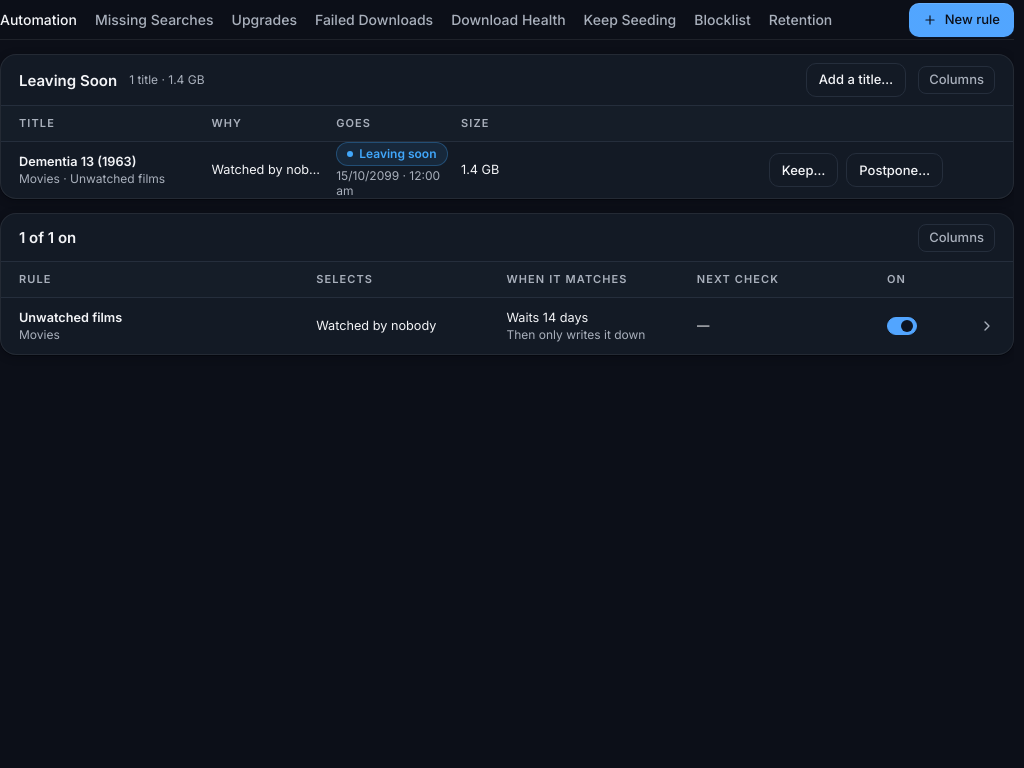
Test case: Leaving soon: Keep › Every rule posts no rule and the page says it is kept from every rule
The width and height of the screenshot is (1024, 768).
What coordinates should you click on to do the following:
click the button with aria-label "Keep Dementia 13"
I would click on:
 (804, 170)
Its box is [769,153,838,187].
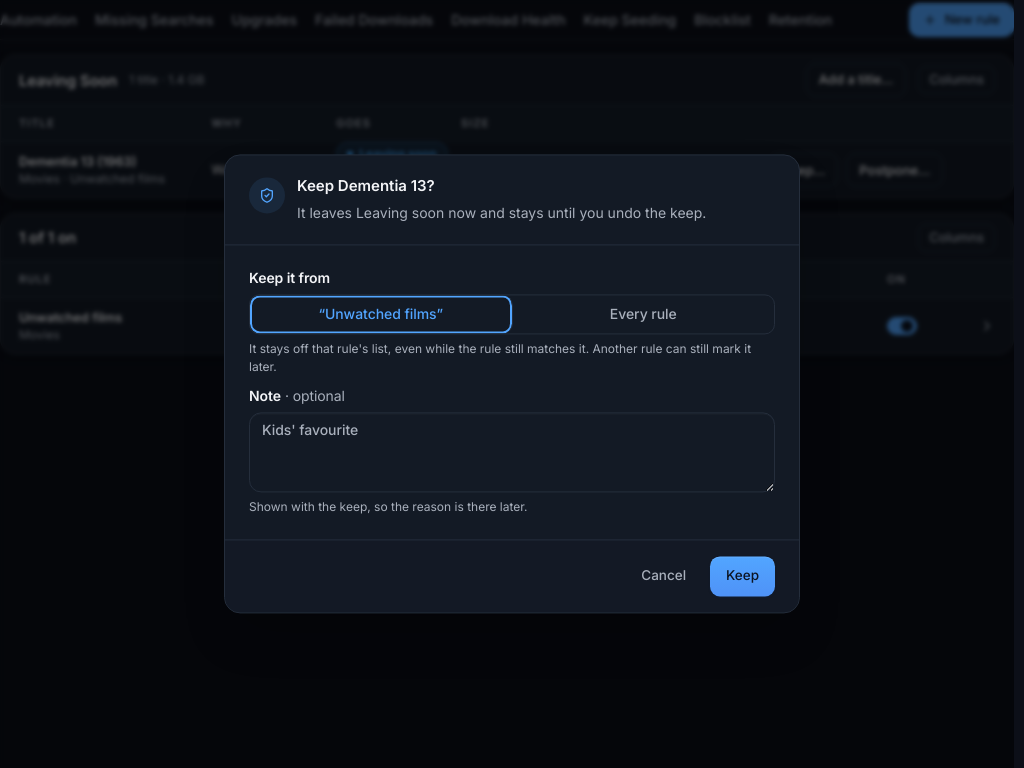
What coordinates should you click on to do the following:
click the radio button labelled "Every rule"
I would click on:
 (643, 314)
Its box is [512,296,774,334].
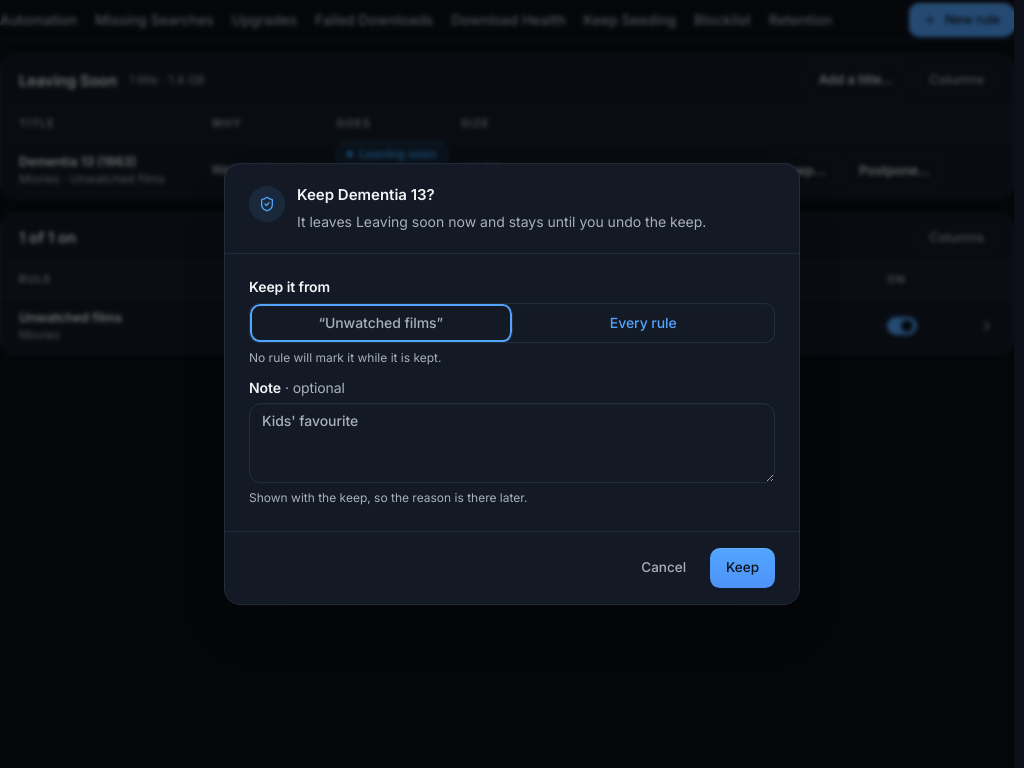
What coordinates should you click on to do the following:
click the button "Keep"
I would click on:
 (742, 568)
Its box is [710,548,775,588].
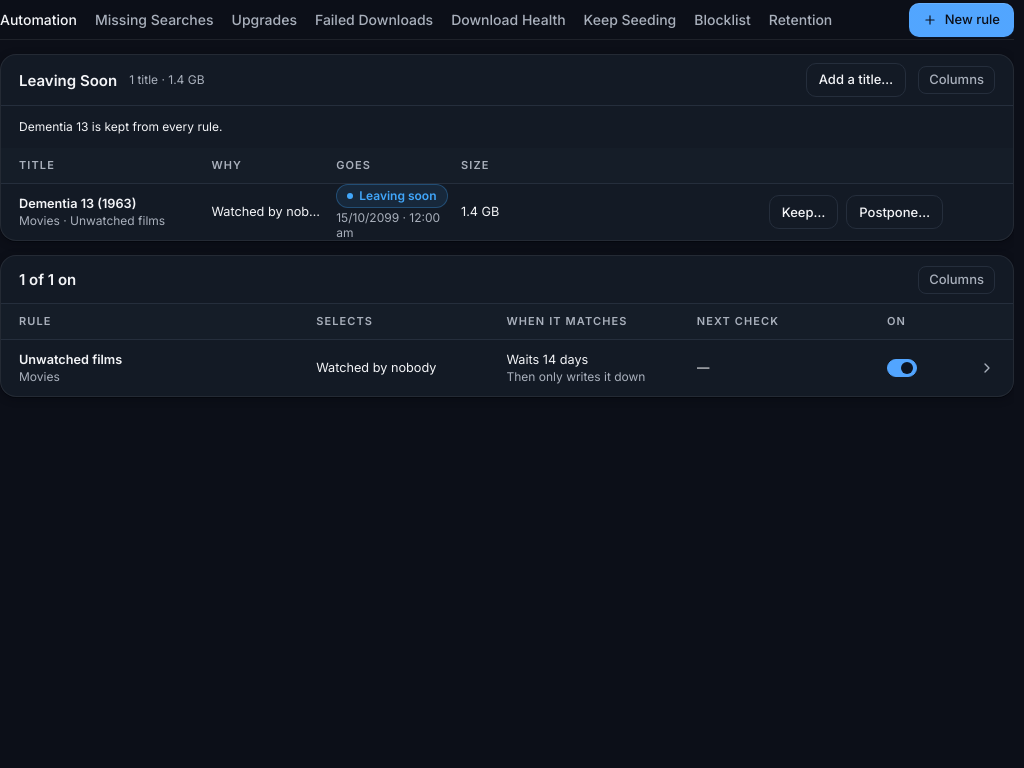
Expected: the text "Dementia 13 is kept from every rule." is shown, [19,119,222,134]
